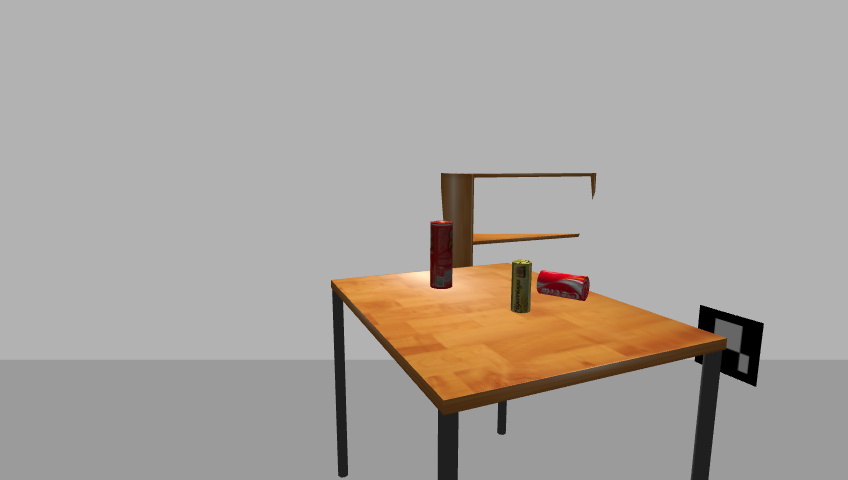aruco marker: (692, 304, 768, 389)
biscuits pack: (509, 259, 534, 314)
bookshelf: (436, 169, 602, 330)
coke can: (535, 271, 592, 303)
dinner table: (325, 264, 733, 480)
pringles can: (427, 220, 455, 290)
